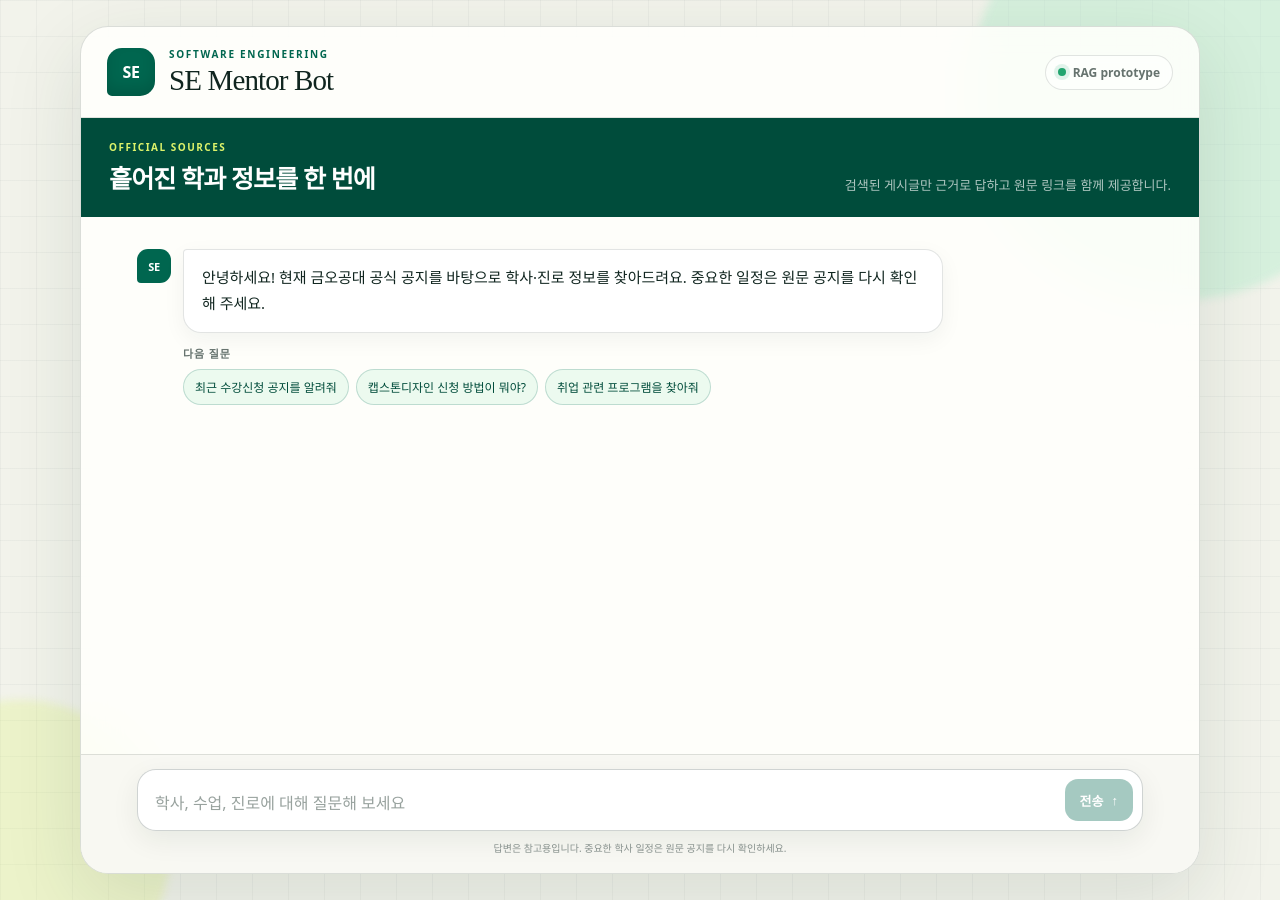
Test: Home › renders a timeout rejection as an assistant error message
In the text box named "질문 입력": (605, 802) [155,783,1055,821], type "응답 시간"
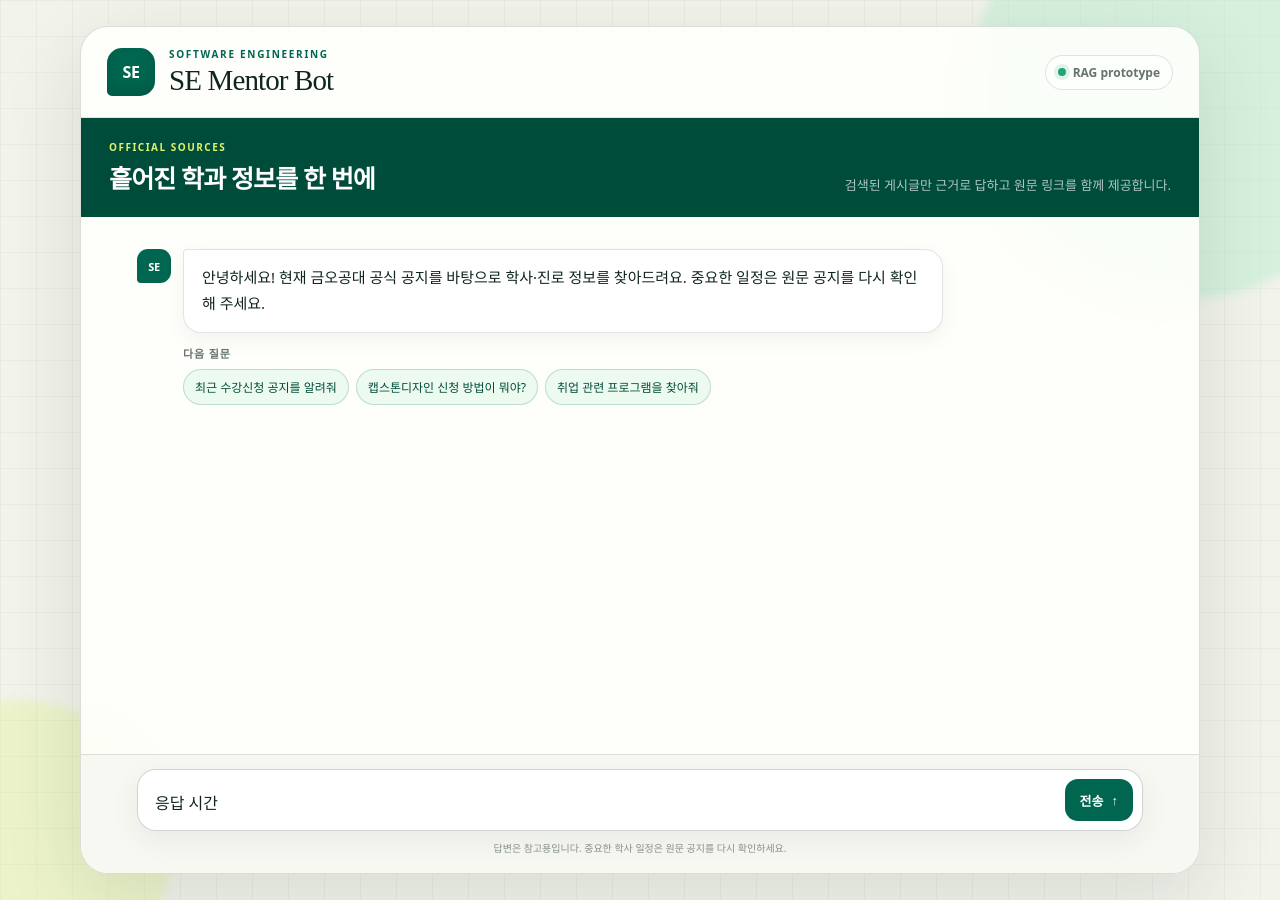
Click the button with aria-label "질문 보내기": (1099, 800) [1065,779,1133,821]
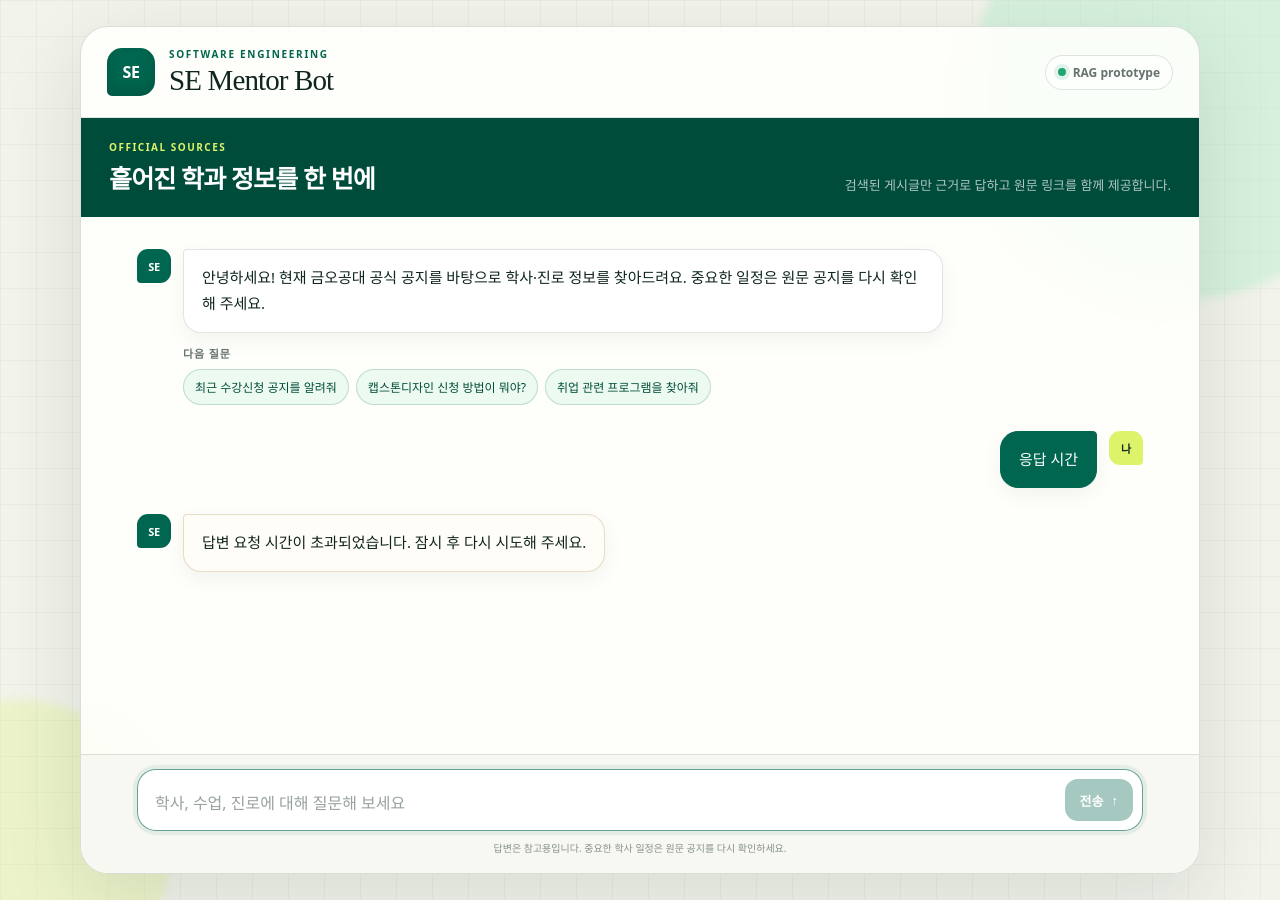
Now the text "답변 요청 시간이 초과되었습니다. 잠시 후 다시 시도해 주세요." is shown, box [202,530,586,556]
